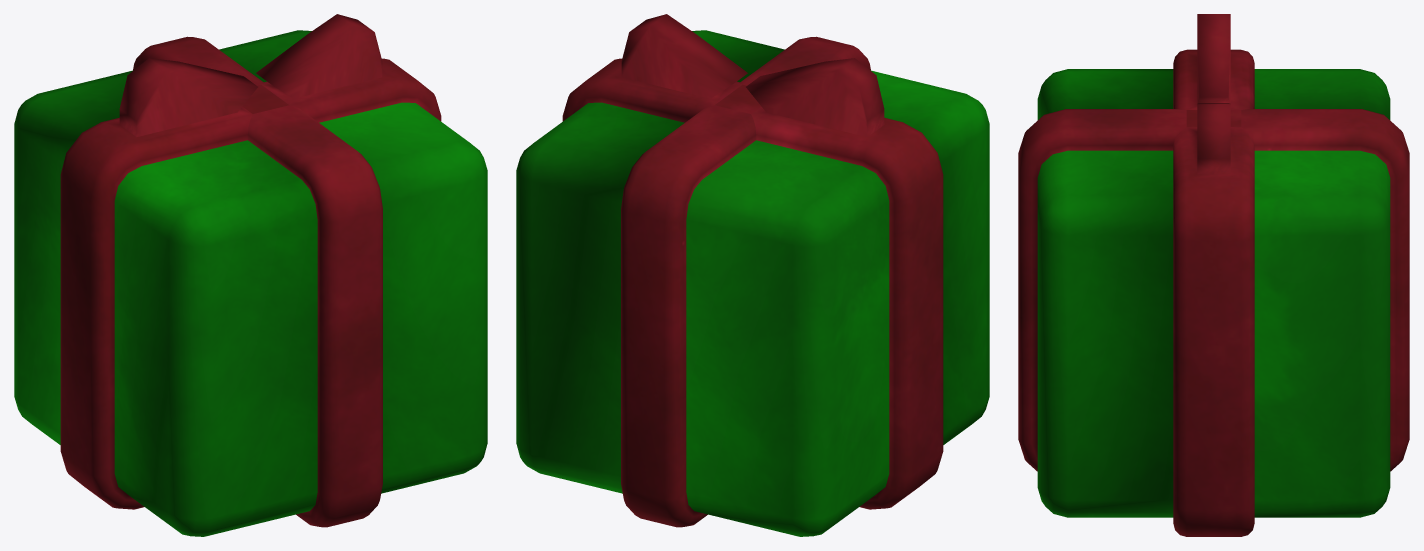
Rendered from Presente_P_Verde.fbx.
3 views of the same model, side by side, from view 1: azimuth 30°, elevation 25°; view 2: azimuth 150°, elevation 25°; view 3: azimuth 270°, elevation 25° (orthographic). The views are drawn at different scales.
Parts seen in each view (by area): view 1: Presente_P_Verde; view 2: Presente_P_Verde; view 3: Presente_P_Verde.
Boxes of the visible parts, left/top/right/bottom form: Presente_P_Verde: left=14, top=14, right=487, bottom=536; Presente_P_Verde: left=516, top=14, right=989, bottom=536; Presente_P_Verde: left=1018, top=14, right=1409, bottom=536.
Size of the model in its own units: 28.83 by 33.49 by 28.83.
Materials: 1 (1 with a texture image).
